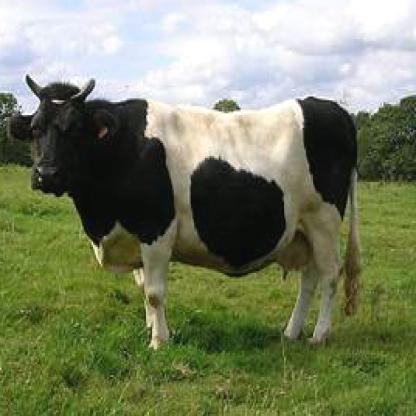cow: (6, 72, 362, 356)
